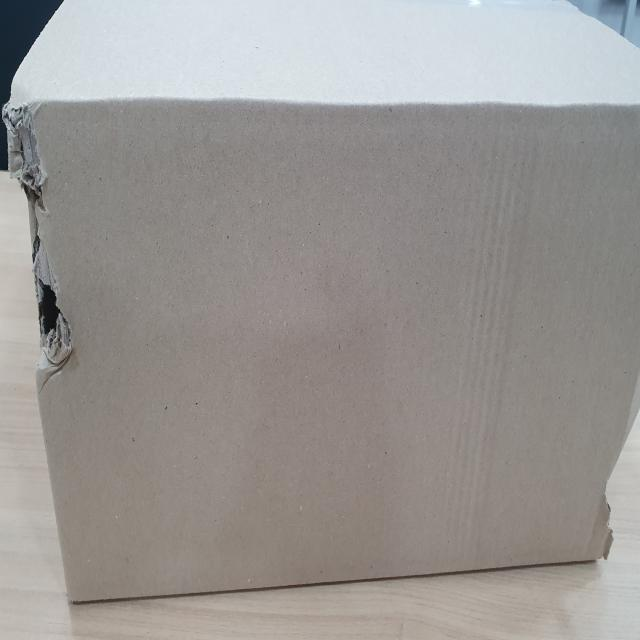hole: (9, 116, 79, 384)
